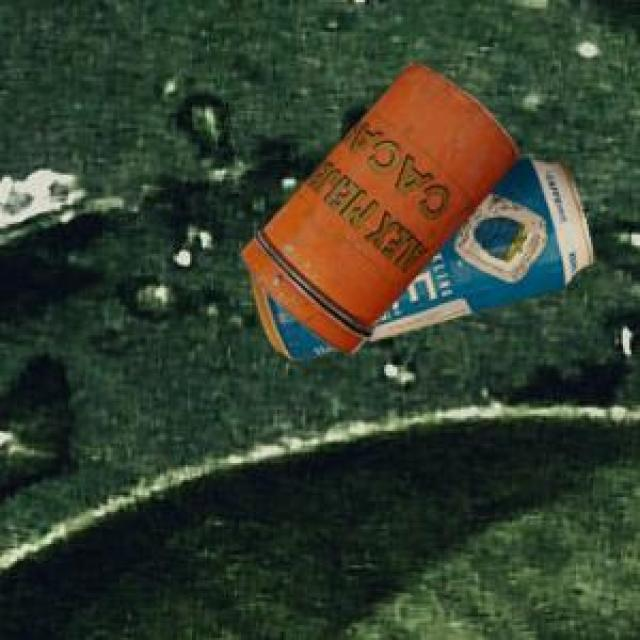Can: (238, 59, 517, 351), (249, 155, 590, 357)
